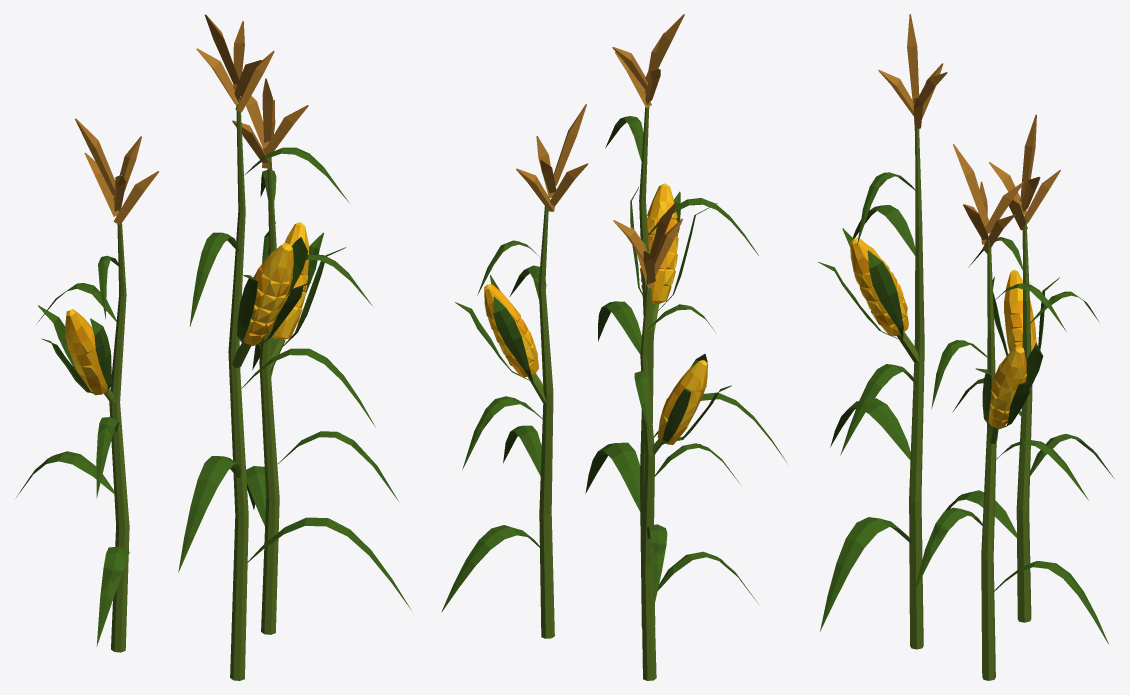
Rendered from Corn Stalk.glb.
3 views of the same model, side by side, from view 1: azimuth 30°, elevation 25°; view 2: azimuth 150°, elevation 25°; view 3: azimuth 270°, elevation 25° (orthographic). The views are drawn at different scales.
Parts seen in each view (by area): view 1: Corn Stalk; view 2: Corn Stalk; view 3: Corn Stalk.
Part boxes in pixels (left/top/right/bottom): Corn Stalk: left=16, top=14, right=411, bottom=680; Corn Stalk: left=441, top=14, right=787, bottom=680; Corn Stalk: left=818, top=14, right=1114, bottom=680.
Size of the model in its own units: 1 by 2.13 by 0.9303.
